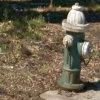Hydrant: (55, 4, 94, 96)
